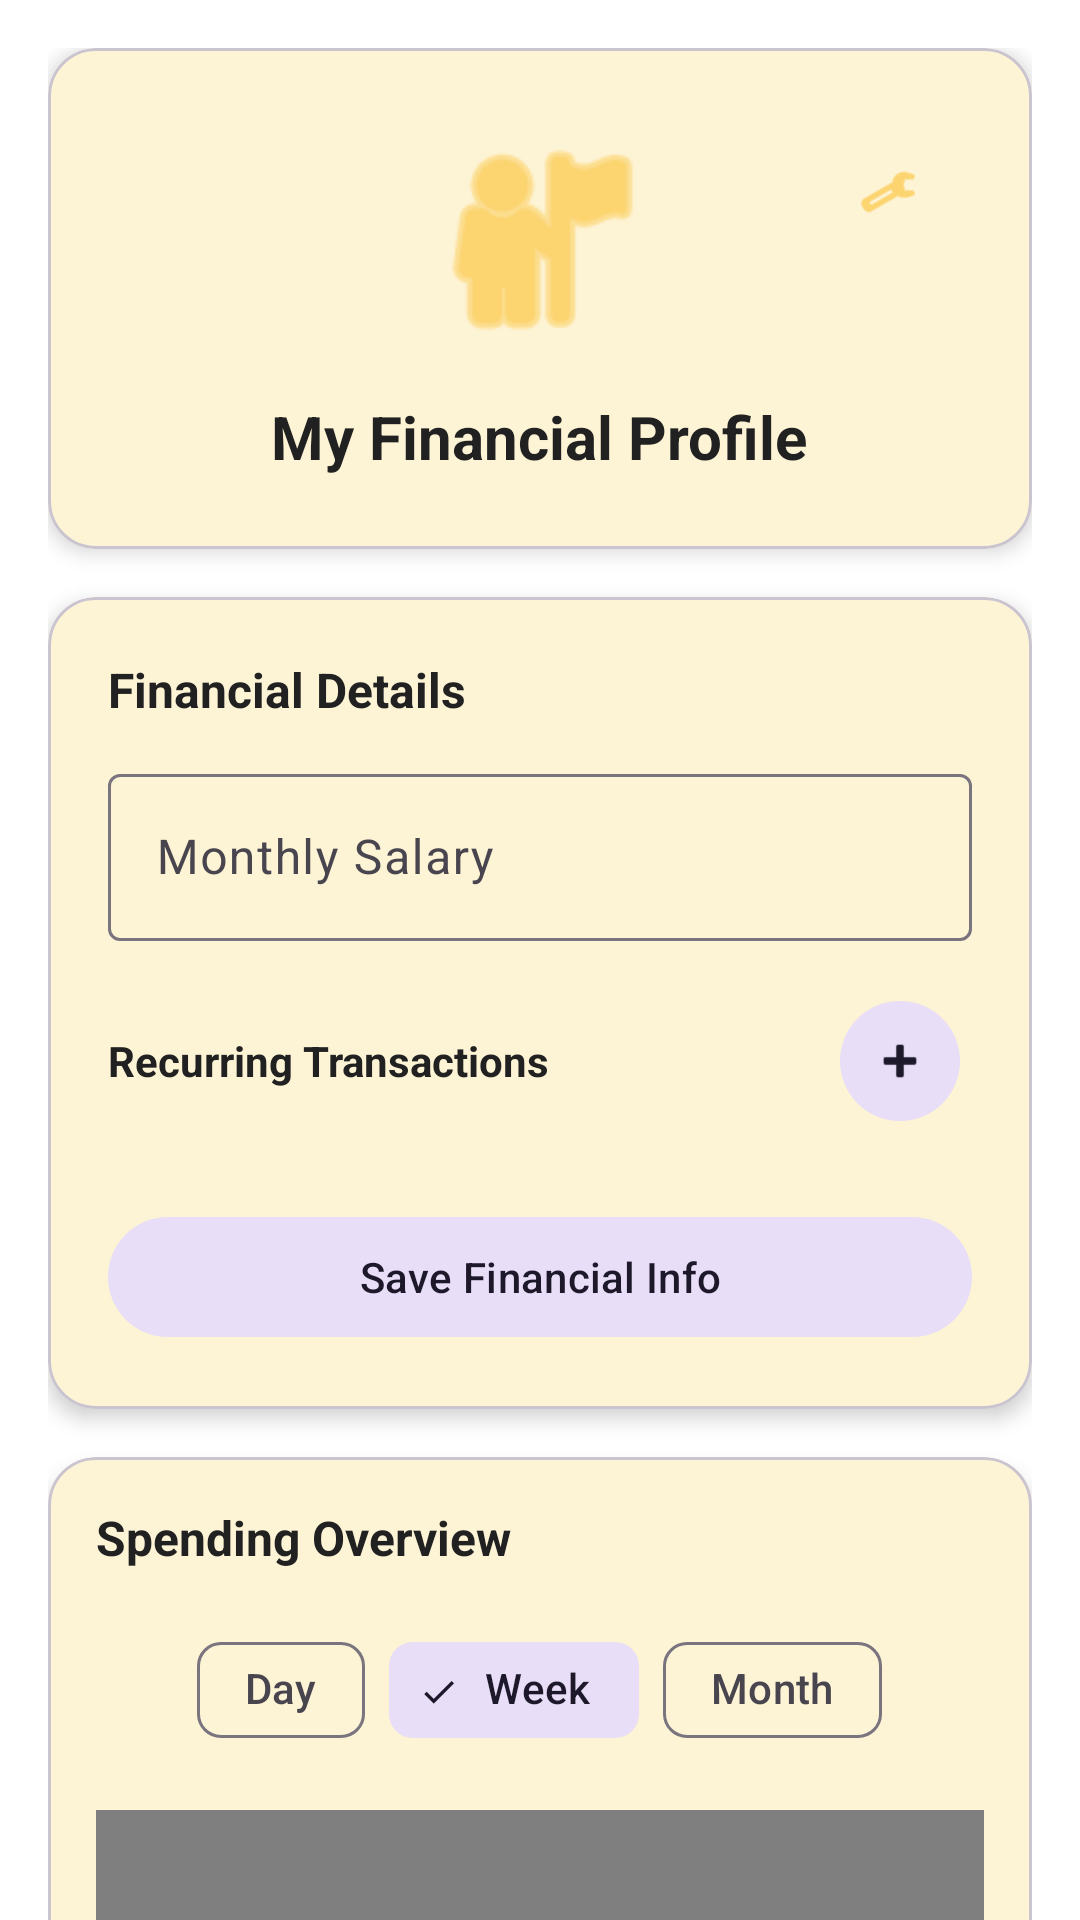

Named icons in this screenshot (1080*1920) and their bounding boxes, [left=x1, top=y1, right=x2, bottom=y2]:
add: [left=840, top=1001, right=960, bottom=1121]
manage: [left=861, top=171, right=915, bottom=213]
myplaces: [left=452, top=151, right=633, bottom=329]
